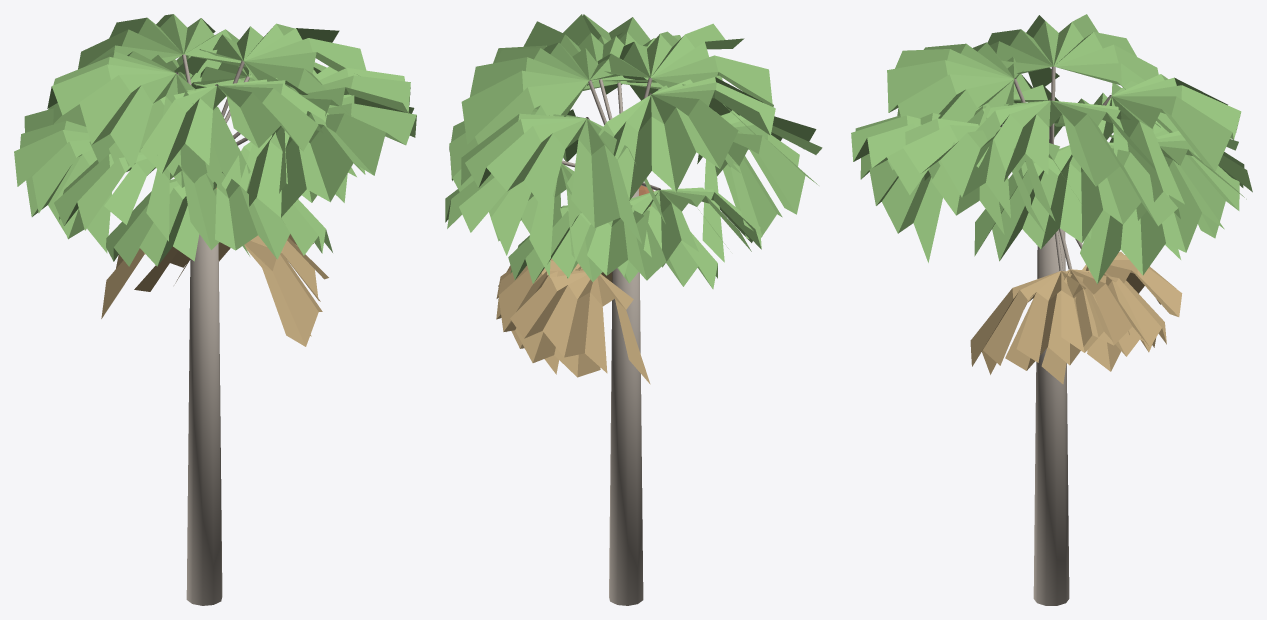
The model's file is buriti_a.glb.
3 views of the same model, side by side, from view 1: azimuth 30°, elevation 25°; view 2: azimuth 150°, elevation 25°; view 3: azimuth 270°, elevation 25° (orthographic). The views are drawn at different scales.
Parts seen in each view (by area): view 1: buriti_a; view 2: buriti_a; view 3: buriti_a.
Part boxes in pixels (left/top/right/bottom): buriti_a: left=14, top=14, right=416, bottom=605; buriti_a: left=445, top=14, right=822, bottom=605; buriti_a: left=851, top=14, right=1252, bottom=605.
Size of the model in its own units: 6.72 by 10.66 by 7.25.
